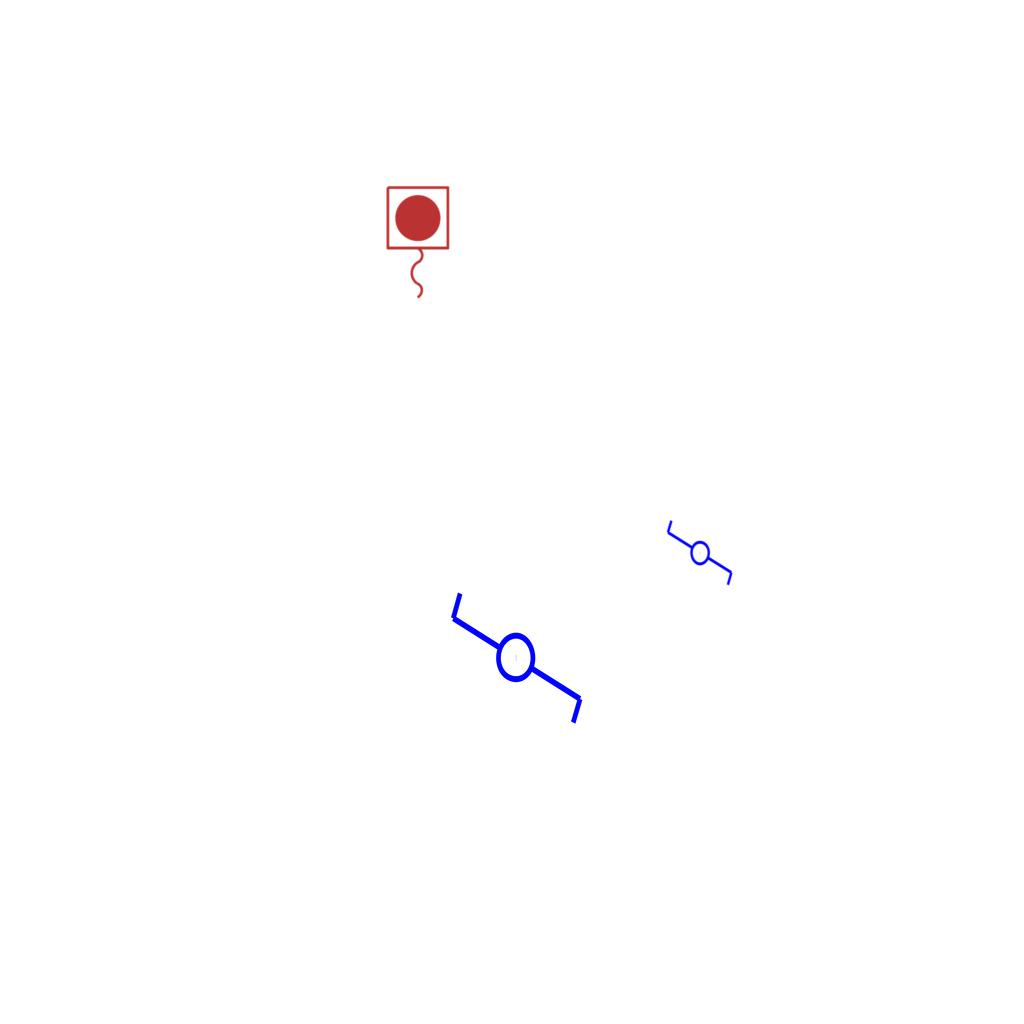Wechselschalter: (446, 571, 590, 728), (663, 518, 735, 596)
Zugtaster: (381, 182, 453, 304)
